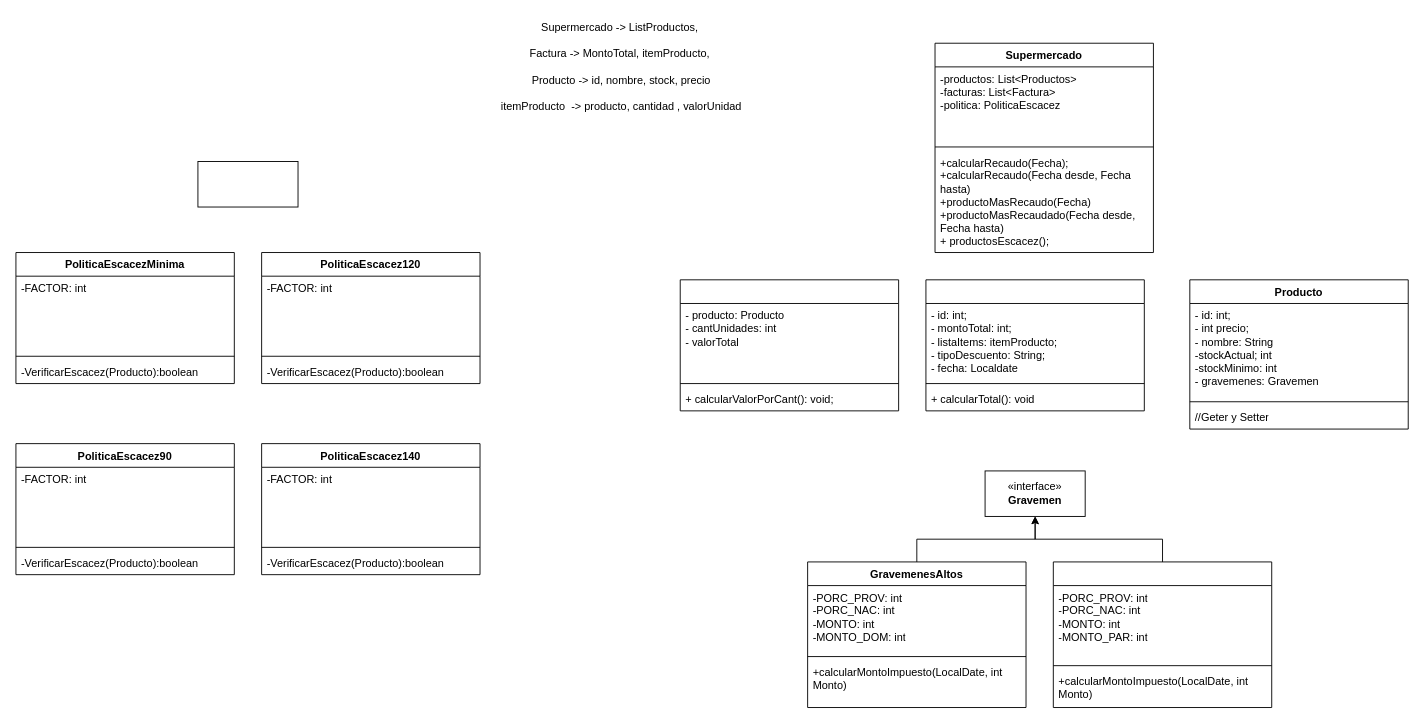
The diagram is 1424 pixels wide and 725 high, and some of its shapes have lost their labels. The shapes that lost their labels are listed below. From the top down, each one's box as (x1, y1, x2, y2) in pixels, then its label:
(197, 161, 298, 207): «interface» PoliticaEscacez
(679, 279, 899, 411): ItemProducto
(925, 279, 1144, 411): Factura
(1052, 561, 1272, 708): GravementesBajos
